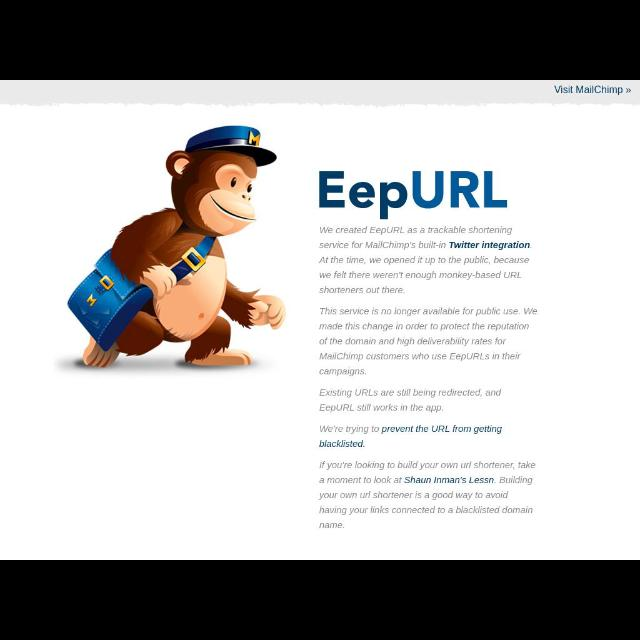icon: (625, 86, 635, 94)
image: (53, 120, 287, 372), (314, 164, 512, 218)
text: (318, 306, 540, 378), (316, 224, 534, 296), (318, 460, 536, 532), (317, 387, 503, 415), (318, 423, 504, 449), (554, 85, 624, 95)
